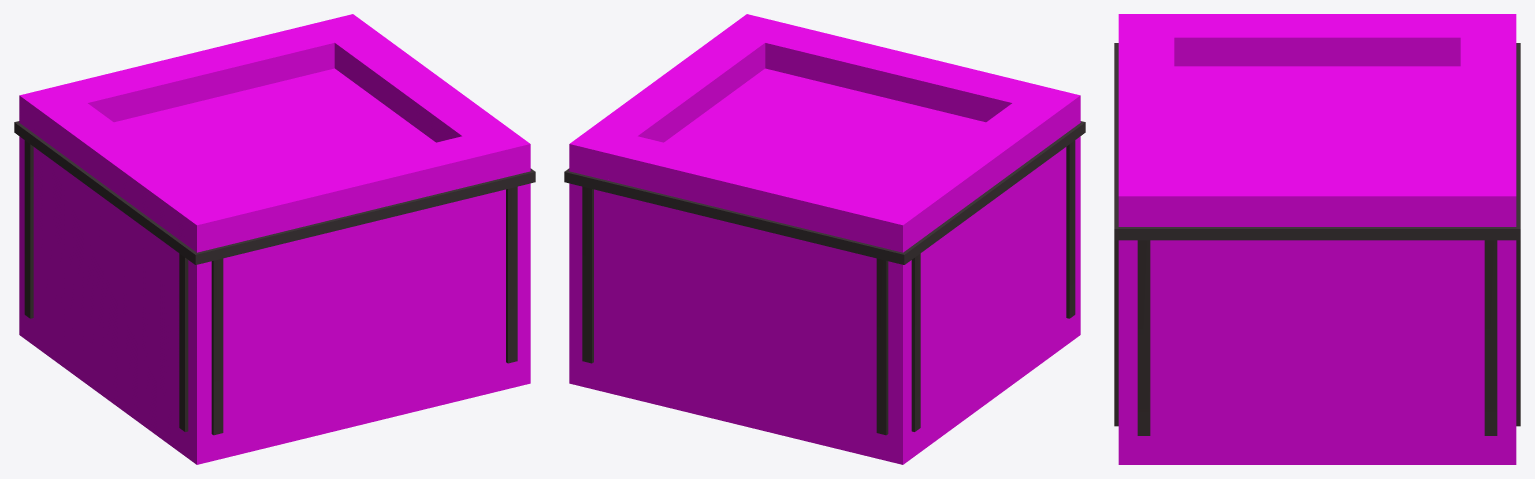
File: interior-mill.glb
The picture shows the model from 3 angles, left to right: view 1: azimuth 30°, elevation 25°; view 2: azimuth 150°, elevation 25°; view 3: azimuth 270°, elevation 25°; orthographic projection. The views are drawn at different scales.
Parts seen in each view (by area): view 1: Col_wall_front, Col_wall_left, Col_ceiling, Interior mill Plaster, Col_wall_back, Col_wall_right; view 2: Col_wall_back, Col_wall_left, Col_ceiling, Col_wall_front, Interior mill Plaster, Col_wall_right; view 3: Col_wall_right, Col_ceiling, Col_wall_back, Col_wall_front, Col_wall_left, Interior mill Plaster.
Part boxes in pixels (<box>): Col_wall_front: <box>172,125,530,464</box>; Col_wall_left: <box>19,85,239,464</box>; Col_ceiling: <box>63,68,530,305</box>; Interior mill Plaster: <box>14,121,535,435</box>; Col_wall_back: <box>19,14,377,352</box>; Col_wall_right: <box>310,14,530,393</box>; Col_wall_back: <box>569,125,927,464</box>; Col_wall_left: <box>860,85,1080,464</box>; Col_ceiling: <box>569,68,1079,305</box>; Col_wall_front: <box>722,14,1080,352</box>; Interior mill Plaster: <box>564,121,1085,435</box>; Col_wall_right: <box>569,14,789,393</box>; Col_wall_right: <box>1118,173,1516,464</box>; Col_ceiling: <box>1118,66,1516,286</box>; Col_wall_back: <box>1460,14,1516,464</box>; Col_wall_front: <box>1118,14,1174,464</box>; Col_wall_left: <box>1118,14,1516,66</box>; Interior mill Plaster: <box>1114,43,1520,435</box>.
Bounding box in the file's own units: 10.4 × 7 × 9.6.
